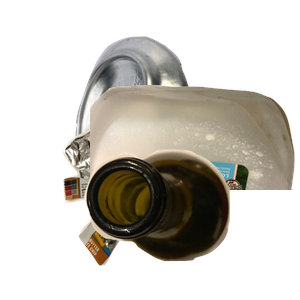glass: (82, 147, 300, 300)
metal: (73, 34, 285, 214)
plastic: (90, 82, 300, 262)
trash: (61, 123, 273, 300)
